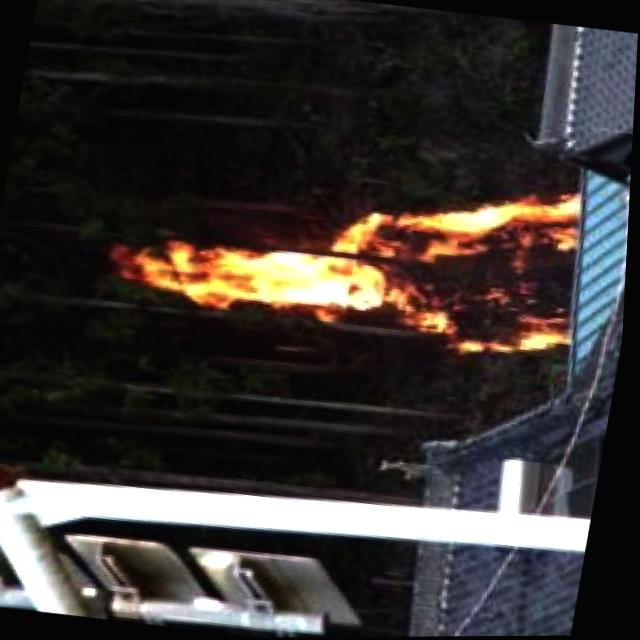helmet: (134, 219, 586, 367)
